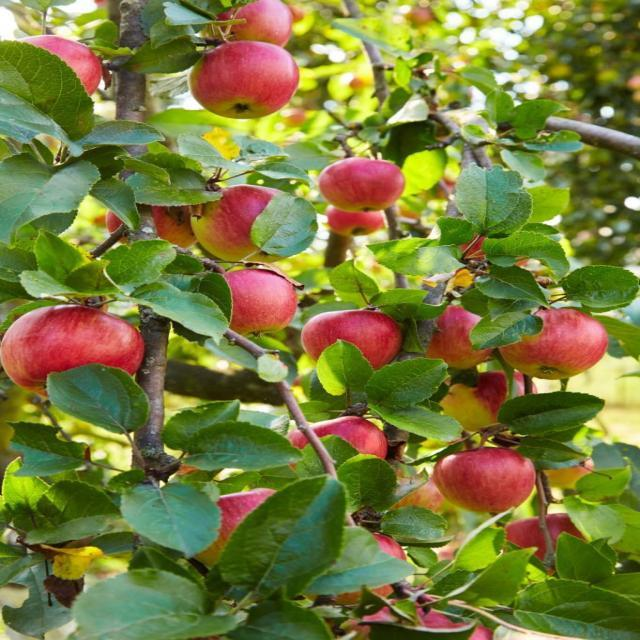Red Apple: (7, 306, 144, 391), (510, 307, 613, 378), (199, 42, 291, 118), (438, 449, 538, 515), (110, 186, 205, 251), (290, 415, 393, 471), (209, 190, 289, 259), (199, 491, 278, 559), (448, 376, 538, 435), (24, 35, 103, 102), (304, 312, 399, 367), (215, 272, 299, 332), (421, 307, 501, 367), (496, 518, 585, 569), (343, 535, 414, 597), (325, 161, 405, 213), (220, 3, 302, 52), (406, 600, 495, 640), (333, 601, 394, 640), (393, 467, 443, 512), (328, 208, 381, 239), (548, 456, 590, 492), (461, 232, 486, 258), (411, 8, 434, 25)
